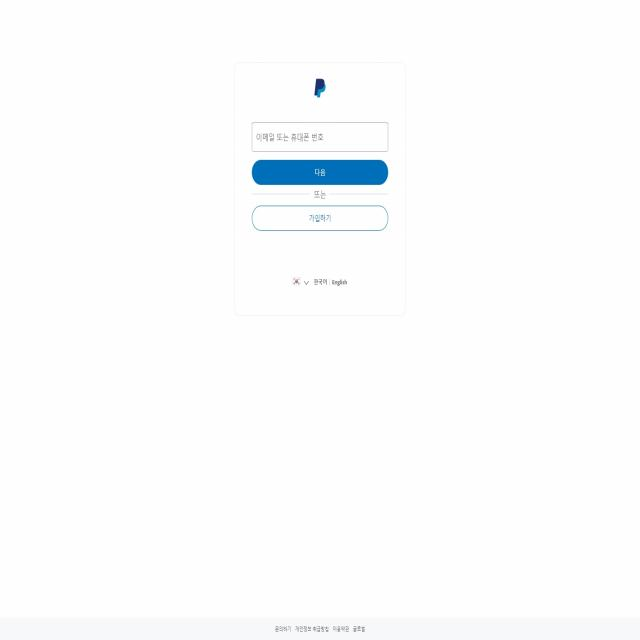menu-bar: (271, 620, 368, 640)
